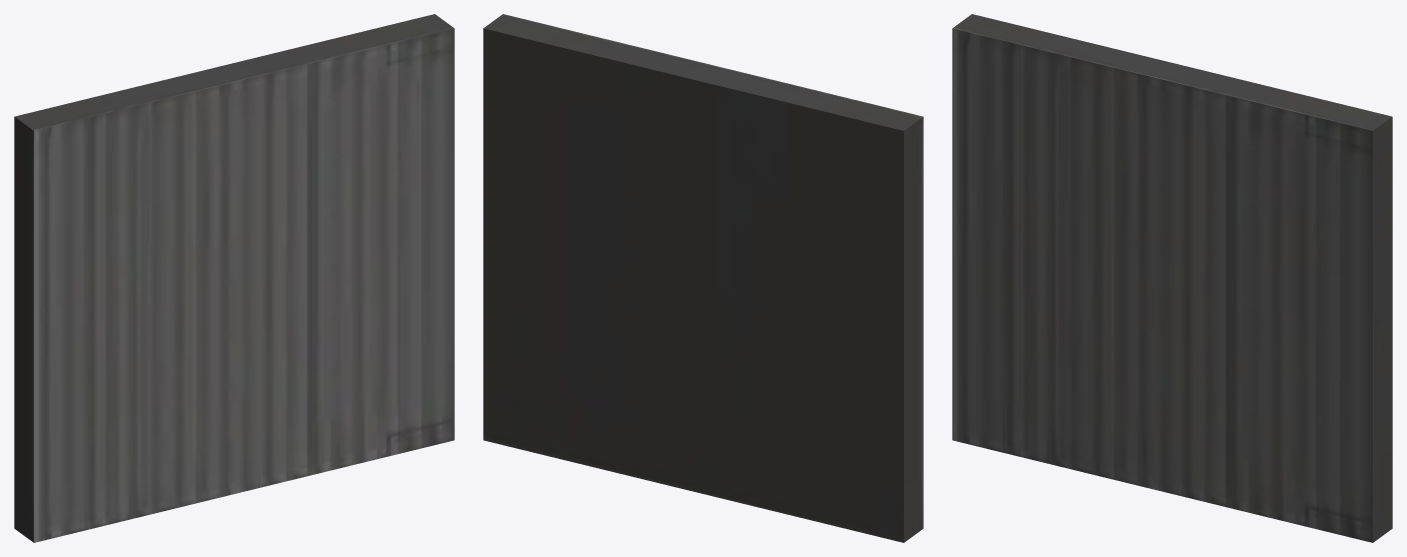
The model's file is seat__seat_plate.glb.
The picture shows the model from 3 angles, left to right: view 1: azimuth 30°, elevation 25°; view 2: azimuth 150°, elevation 25°; view 3: azimuth 330°, elevation 25°; orthographic projection.
Visible parts, largest first — view 1: world; view 2: world; view 3: world.
Part boxes in pixels (x1,y1,x2,y2): world: (14,14,454,542); world: (483,14,923,542); world: (952,14,1392,542).
Size of the model in its own units: 0.47 by 0.44 by 0.038.
Materials: 1 (1 with a texture image).
